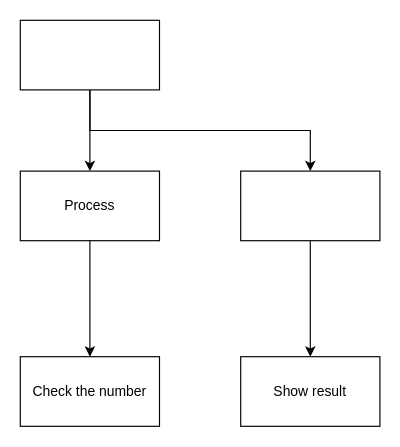
This 400x447 diagram has some shape labels left out. Here are the shapes that lost their labels. From the top down, the centre of each, then its label:
[89,54]: Test the loop and if statement
[310,205]: Output
